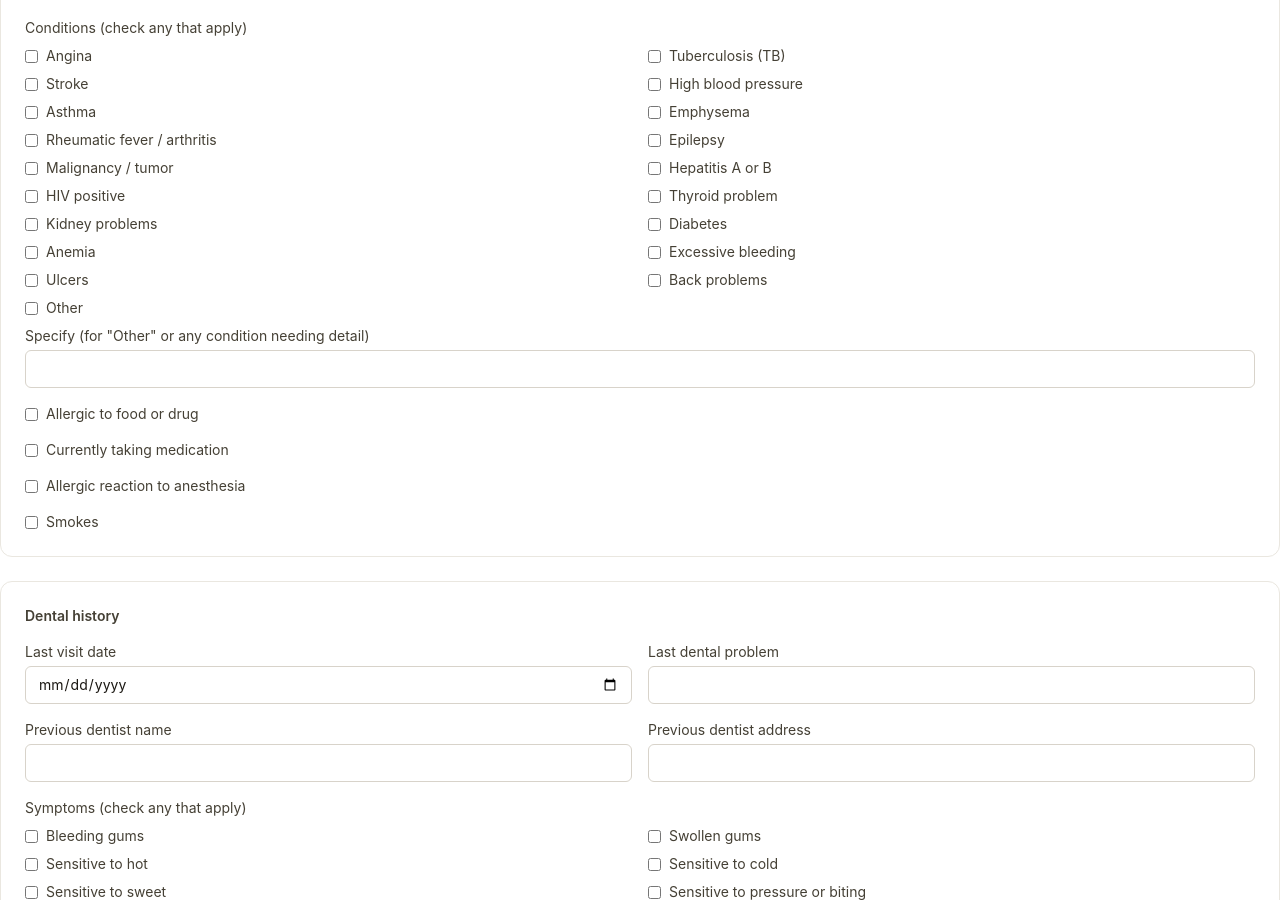
it: PatientForm › reveals the follow-up for "Currently taking medication"
This screenshot has width=1280, height=900.
(page scrolled)
Click the checkbox labelled "Currently taking medication". click: [32, 450]
box: left=25, top=444, right=38, bottom=456
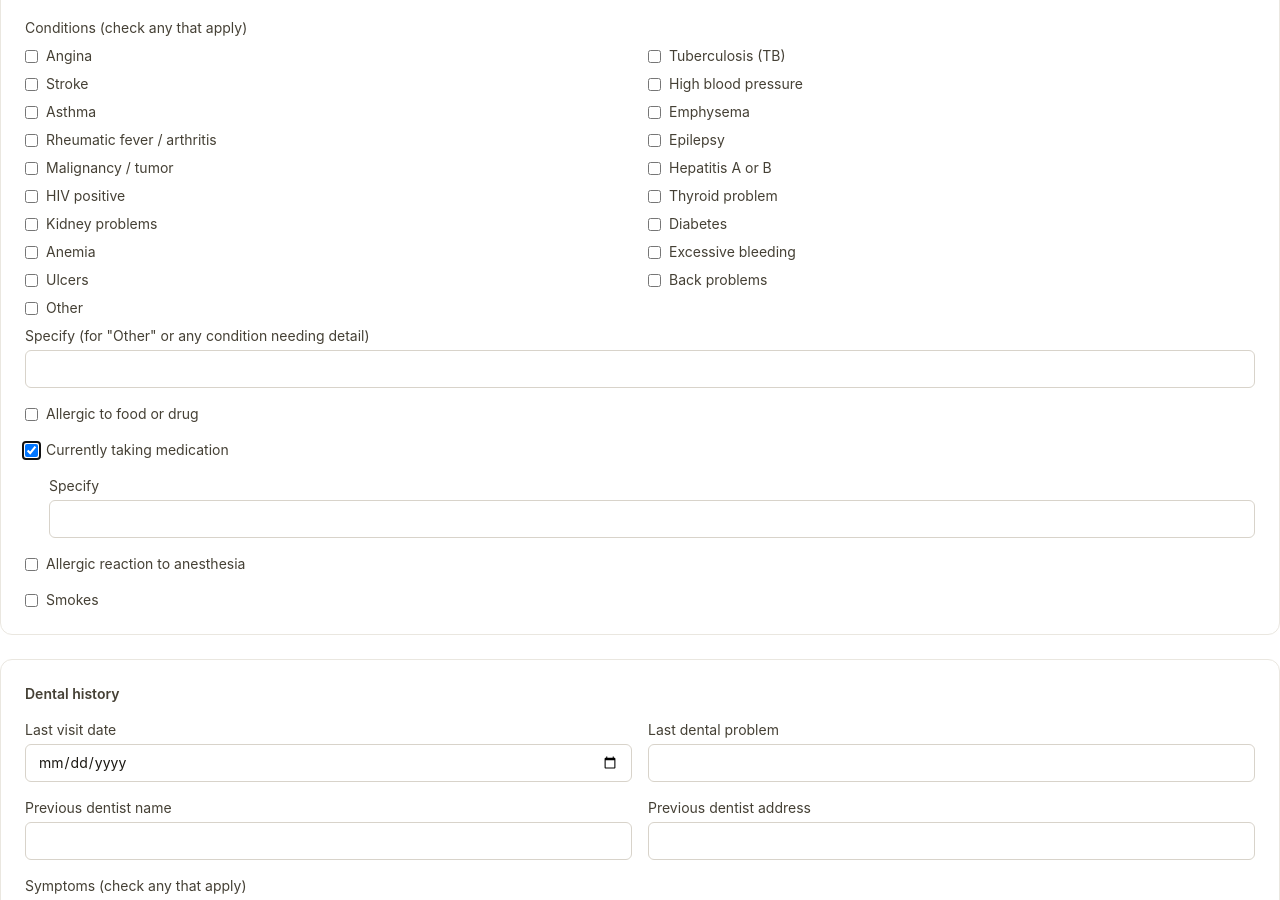
Check: the field labelled "Specify" is shown, box left=49, top=500, right=1255, bottom=538
